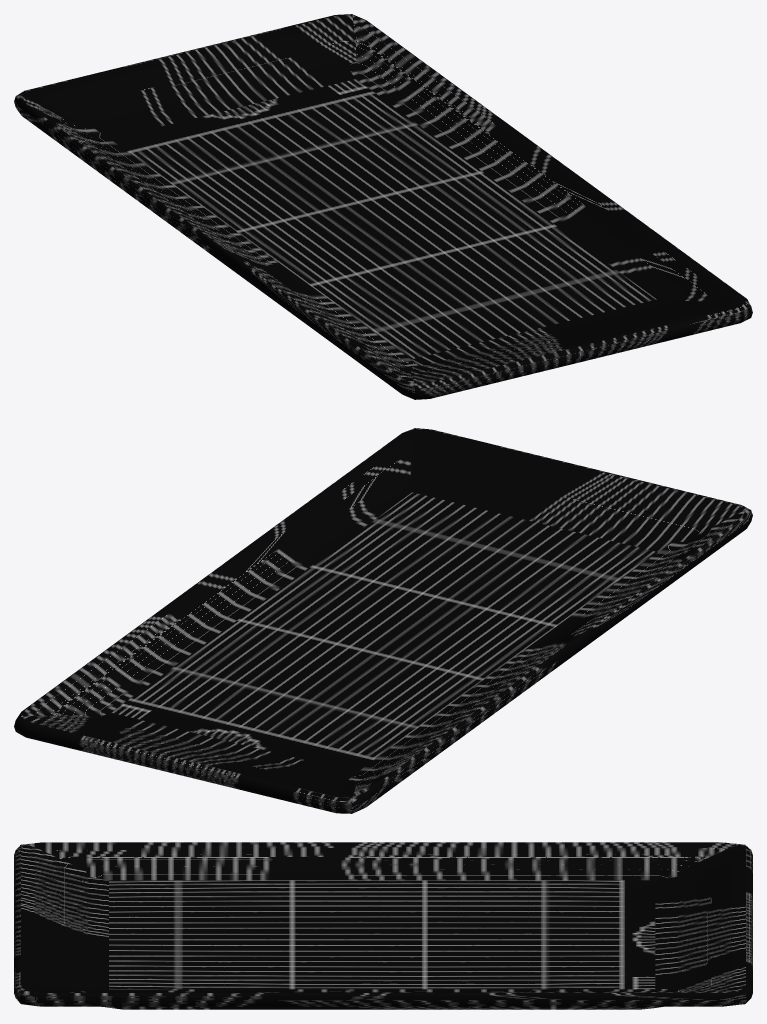
Rendered from Butter_Plate.fbx.
3 views of the same model, one above another, from view 1: azimuth 30°, elevation 25°; view 2: azimuth 150°, elevation 25°; view 3: azimuth 270°, elevation 25° (orthographic). The views are drawn at different scales.
Visible parts, largest first — view 1: pCube5; view 2: pCube5; view 3: pCube5.
Part boxes in pixels (left/top/right/bottom): pCube5: left=14, top=14, right=752, bottom=399; pCube5: left=14, top=428, right=752, bottom=813; pCube5: left=14, top=842, right=752, bottom=1009.
Size of the model in its own units: 13.31 by 1.45 by 27.1.
